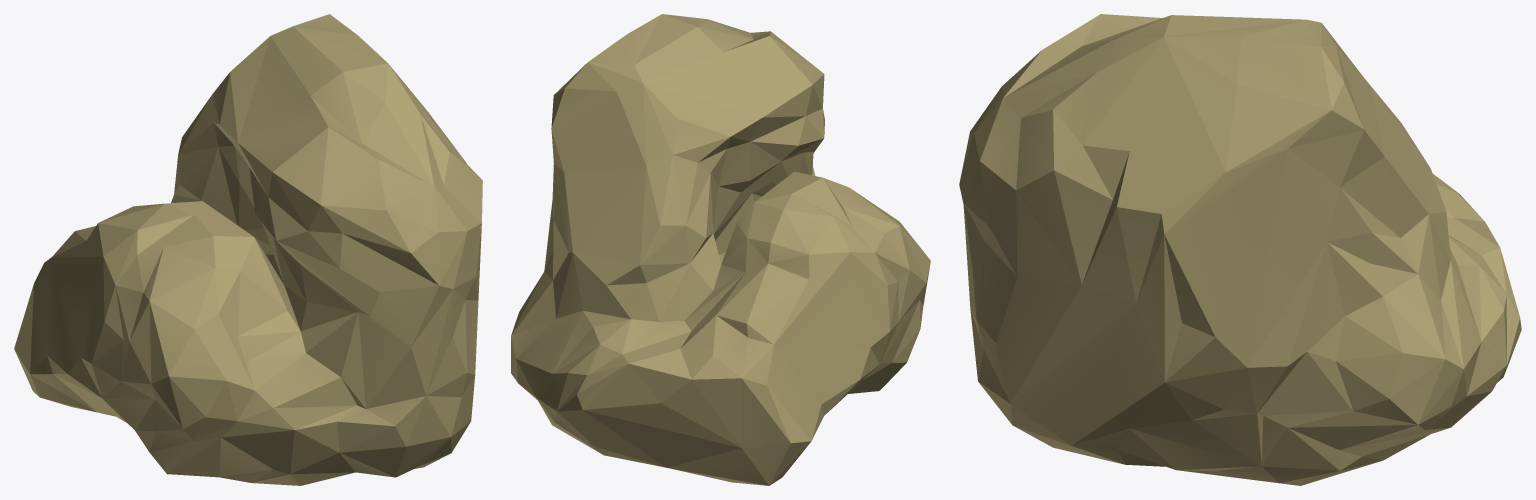
Rendered from SM_rock_40.fbx.
3 renders of one model, left to right at view 1: azimuth 30°, elevation 25°; view 2: azimuth 150°, elevation 25°; view 3: azimuth 270°, elevation 25°, orthographic. The views are drawn at different scales.
Visible parts, largest first — view 1: rock_40; view 2: rock_40; view 3: rock_40.
Boxes of the visible parts, x1,y1,x2,y2 form: rock_40: (14, 14, 482, 485); rock_40: (511, 14, 930, 485); rock_40: (959, 14, 1521, 485).
Size of the model in its own units: 141 by 151 by 169.
